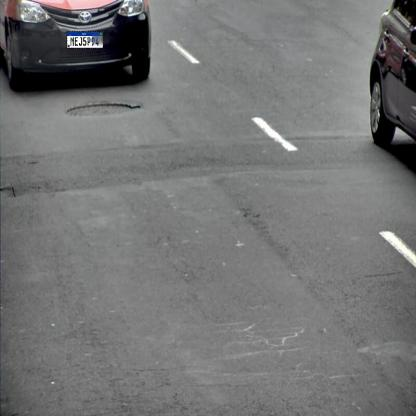PlacaM: (66, 31, 104, 49)
